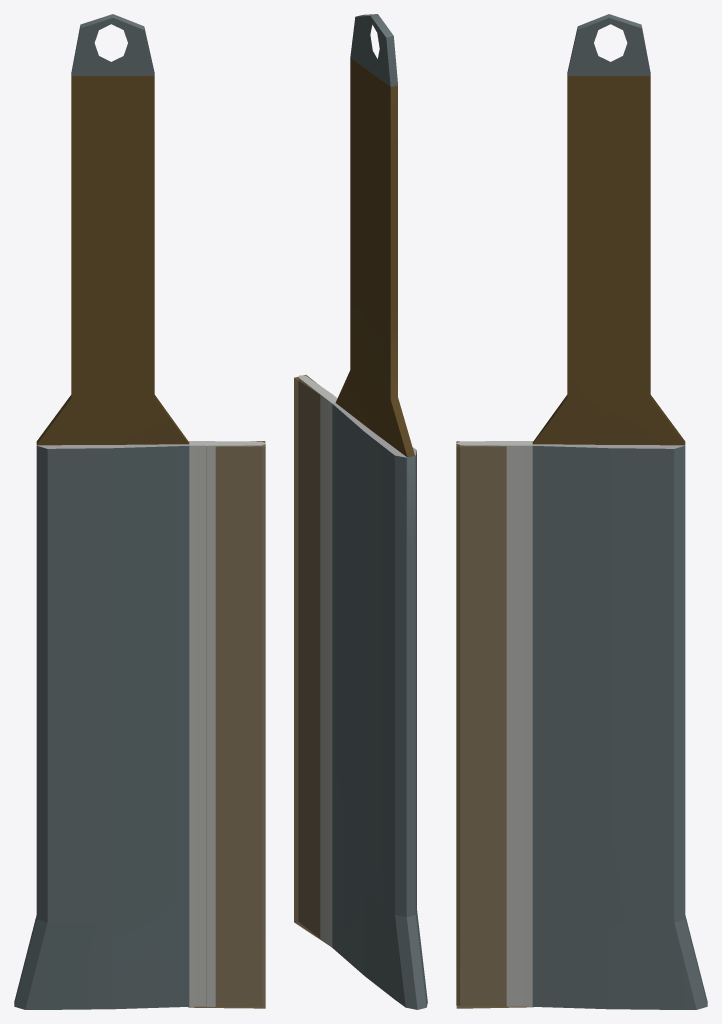
File: Dirty_CLeaver.fbx
3 renders of one model, left to right at view 1: azimuth 90°, elevation 25°; view 2: azimuth 210°, elevation 25°; view 3: azimuth 270°, elevation 25°, orthographic. The views are drawn at different scales.
Visible parts, largest first — view 1: Dirty_Cleaver; view 2: Dirty_Cleaver; view 3: Dirty_Cleaver.
Part boxes in pixels (box(x1,y1,x2,y2)): Dirty_Cleaver: box(14, 14, 265, 1009); Dirty_Cleaver: box(294, 14, 427, 1009); Dirty_Cleaver: box(456, 14, 707, 1009).
Size of the model in its own units: 1.22 by 50.69 by 11.68.
